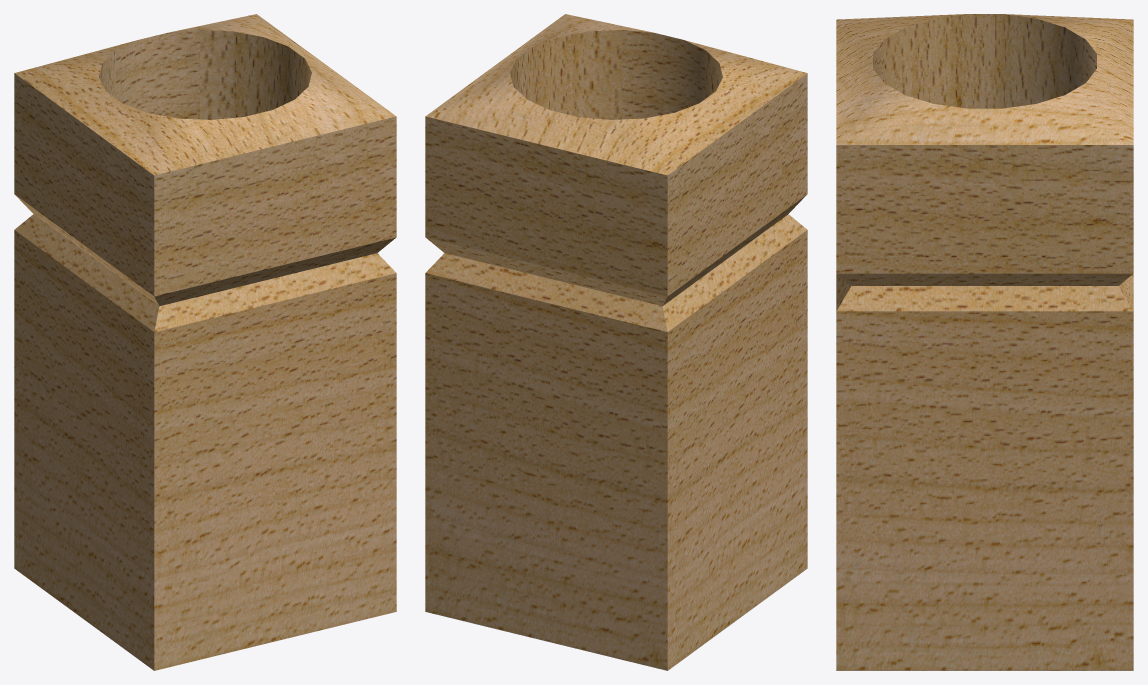
File: Koma_B_So_C1.fbx
3 renders of one model, left to right at view 1: azimuth 30°, elevation 25°; view 2: azimuth 150°, elevation 25°; view 3: azimuth 270°, elevation 25°, orthographic. The views are drawn at different scales.
Parts seen in each view (by area): view 1: Koma_B_So_C1; view 2: Koma_B_So_C1; view 3: Koma_B_So_C1.
Part boxes in pixels (bbox=[...]): Koma_B_So_C1: bbox=[14, 14, 396, 670]; Koma_B_So_C1: bbox=[425, 14, 807, 670]; Koma_B_So_C1: bbox=[836, 14, 1133, 670].
Bounding box in the file's own units: 1.28 × 2.6 × 1.28.
1 material, 1 textured.
